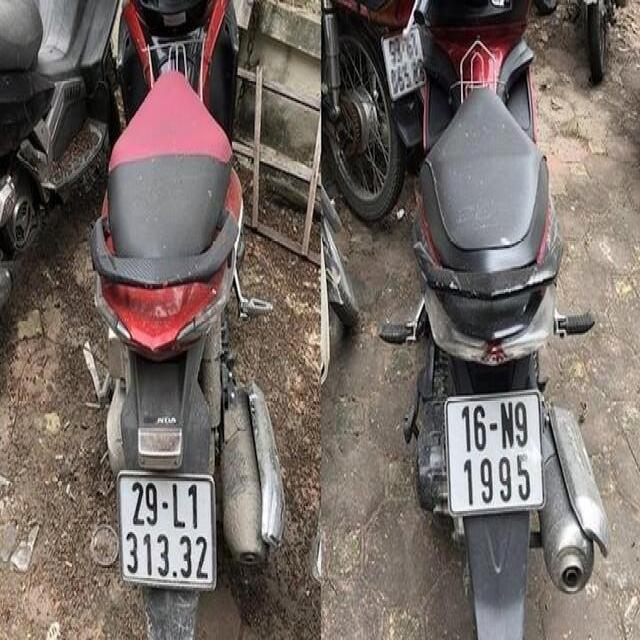motorcycle: (390, 5, 588, 633), (82, 18, 273, 633), (0, 14, 102, 410)
plate: (442, 385, 546, 516), (115, 467, 217, 589), (378, 21, 430, 103)
